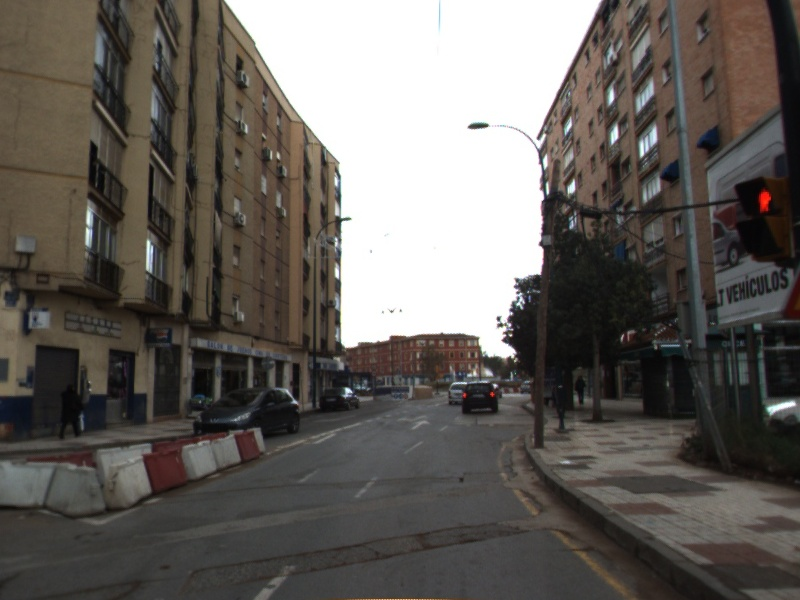STRAIGHT: (407, 418, 434, 432)
STRAIGHT_LEFT: (394, 412, 430, 425)
